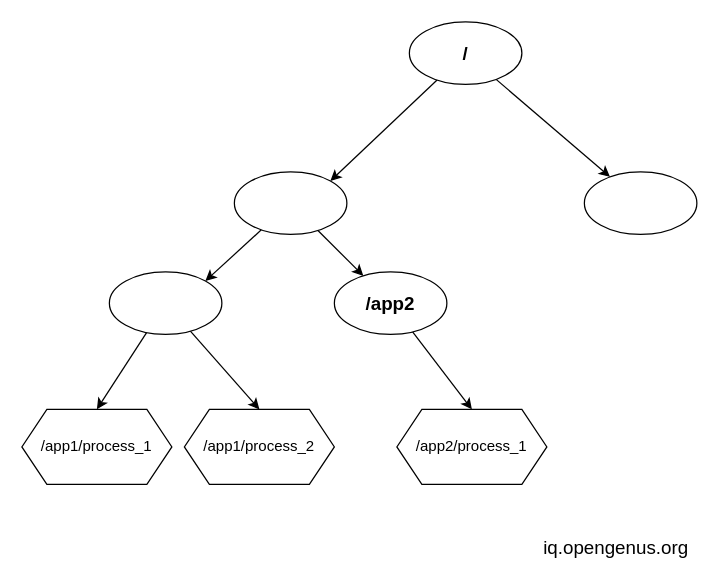
The diagram is 719 pixels wide and 581 high, and some of its shapes have lost their labels. The shapes that lost their labels are listed below. From the top down, each one's box as (x1, y1, x2, y2) in pixels, then its label:
(233, 171, 347, 234): /config
(583, 171, 697, 234): /worker
(108, 271, 222, 334): /app1
